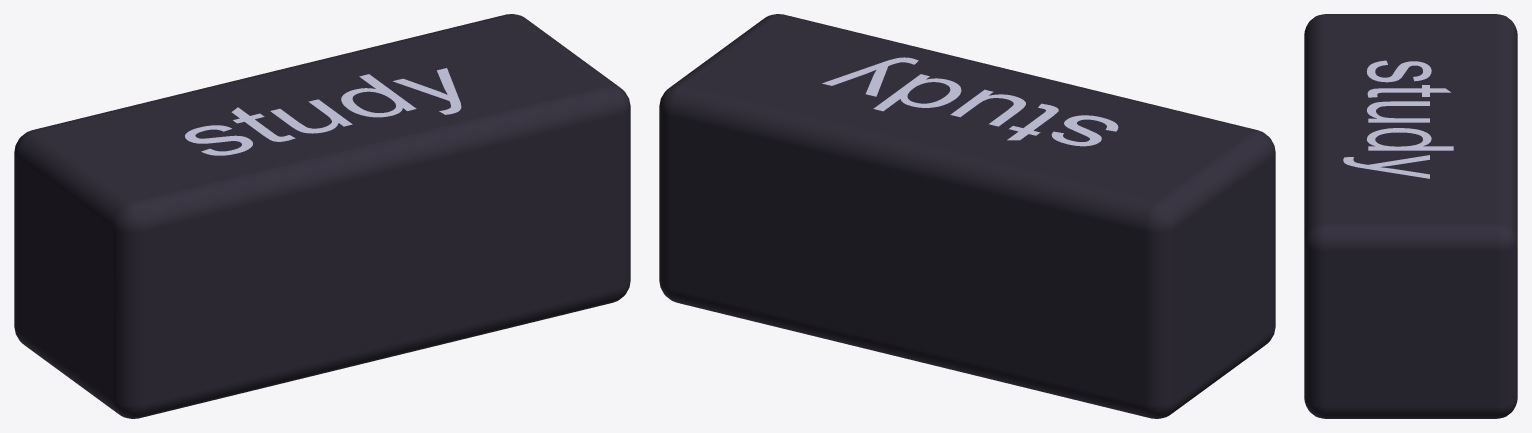
The model's file is study.glb.
The picture shows the model from 3 angles, left to right: view 1: azimuth 30°, elevation 25°; view 2: azimuth 150°, elevation 25°; view 3: azimuth 270°, elevation 25°; orthographic projection. The views are drawn at different scales.
Visible parts, largest first — view 1: Cut, Extrude; view 2: Cut, Extrude; view 3: Cut, Extrude.
Part boxes in pixels (x1,y1,x2,y2): Cut: (14,14,630,418); Extrude: (185,68,461,155); Cut: (659,14,1275,418); Extrude: (822,57,1118,146); Cut: (1304,14,1517,418); Extrude: (1343,60,1453,178).
Bounding box in the file's own units: 5 × 2 × 2.
